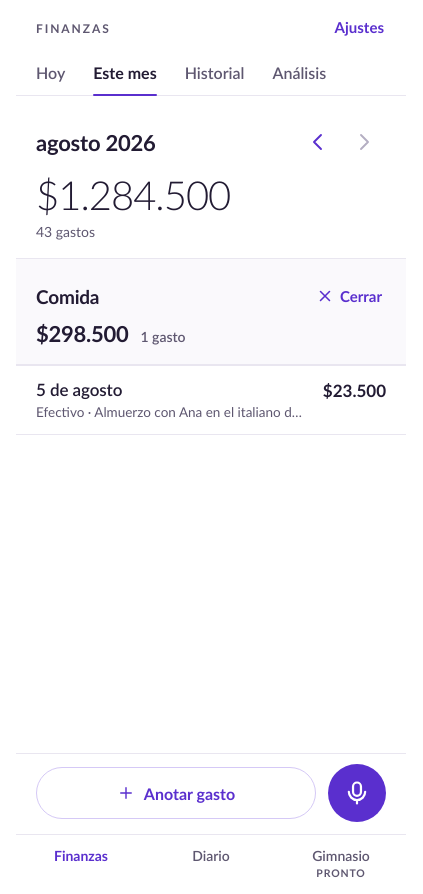
Scenario: B1 / 17.1 — tapping an expense opens the detail, not the form › opens the read-only detail from a filtered category list (18.8)
This screenshot has width=423, height=894.
Click the text "5 de agosto" at point(79, 390), box [36,379,122,400]
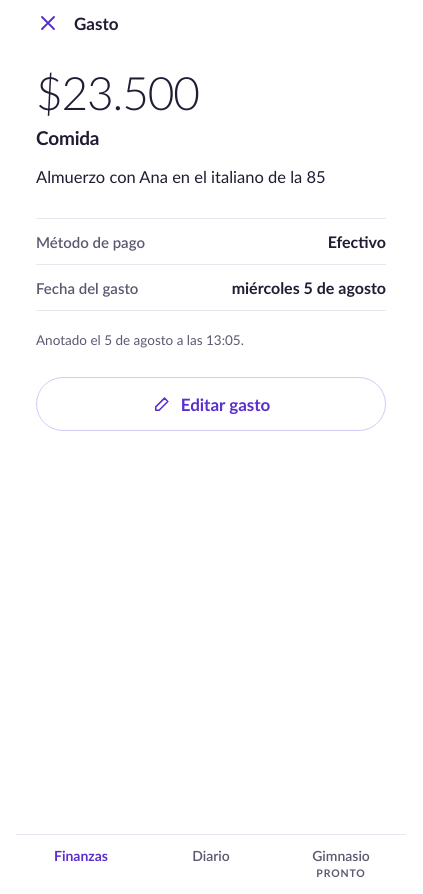
Expected: the text "$23.500" is shown, [36,65,199,120]
Expected: the button "Editar gasto" is shown, [36,377,386,431]
